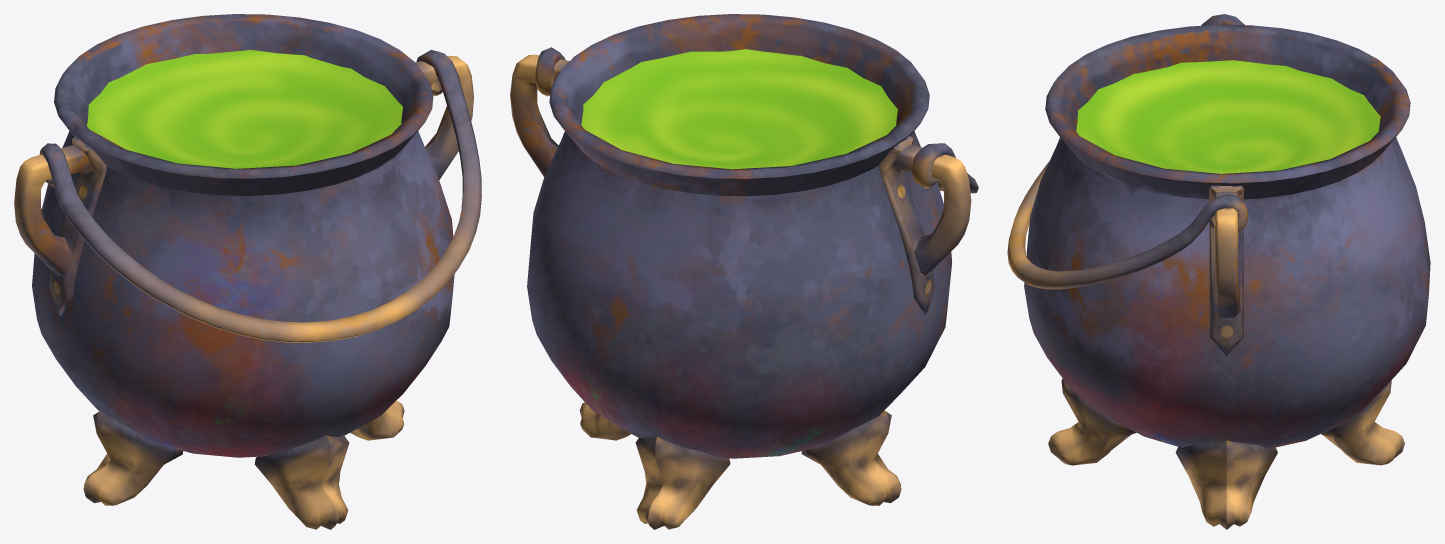
Rendered from SM_Potion_Props_Pot_03_C.fbx.
3 renders of one model, left to right at view 1: azimuth 30°, elevation 25°; view 2: azimuth 150°, elevation 25°; view 3: azimuth 270°, elevation 25°, orthographic. The views are drawn at different scales.
Parts seen in each view (by area): view 1: SM_Potion_Props_Pot_03_C_LOD0; view 2: SM_Potion_Props_Pot_03_C_LOD0; view 3: SM_Potion_Props_Pot_03_C_LOD0.
Boxes of the visible parts, x1,y1,x2,y2 form: SM_Potion_Props_Pot_03_C_LOD0: [14, 14, 481, 529]; SM_Potion_Props_Pot_03_C_LOD0: [510, 14, 978, 529]; SM_Potion_Props_Pot_03_C_LOD0: [1007, 14, 1430, 529].
Size of what is drawn, in the model's own units: 72.14 by 56.81 by 60.58.
